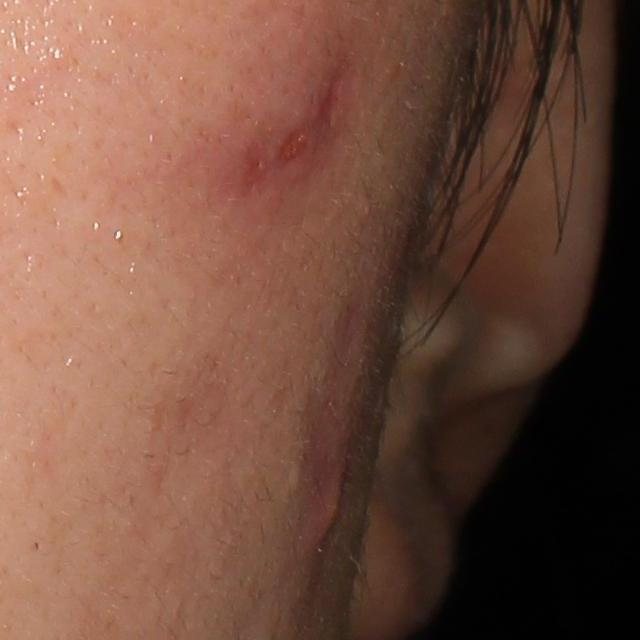atrophic_scar: (276, 125, 311, 165)
